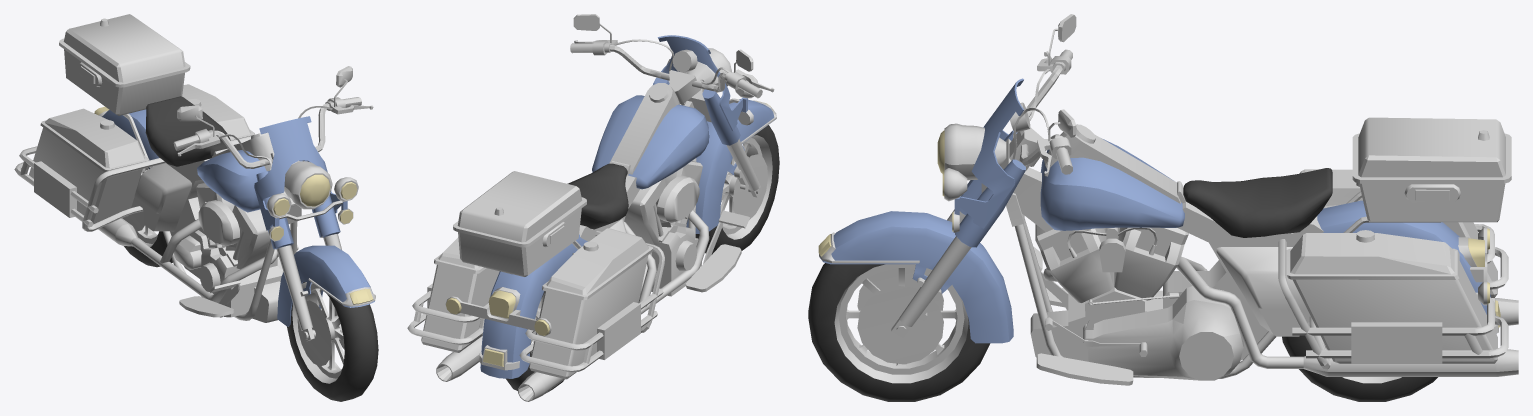
File: bike3.fbx
The picture shows the model from 3 angles, left to right: view 1: azimuth 30°, elevation 25°; view 2: azimuth 150°, elevation 25°; view 3: azimuth 270°, elevation 25°; orthographic projection. The views are drawn at different scales.
Parts seen in each view (by area): view 1: Bike3, Shape, FrontWheel, Wing, BackWheel; view 2: Bike3, Shape, FrontWheel, Wing, BackWheel; view 3: Bike3, FrontWheel, Wing, Shape, BackWheel.
Part boxes in pixels (bbox=[...]): Bike3: bbox=[14, 14, 306, 322]; Shape: bbox=[173, 66, 373, 249]; FrontWheel: bbox=[287, 282, 378, 401]; Wing: bbox=[276, 234, 375, 341]; BackWheel: bbox=[122, 167, 172, 267]; Bike3: bbox=[407, 83, 749, 401]; Shape: bbox=[570, 14, 774, 145]; FrontWheel: bbox=[695, 125, 779, 254]; Wing: bbox=[686, 99, 776, 233]; BackWheel: bbox=[506, 291, 563, 393]; Bike3: bbox=[1006, 117, 1518, 385]; FrontWheel: bbox=[808, 263, 990, 401]; Wing: bbox=[818, 209, 1013, 343]; Shape: bbox=[937, 14, 1076, 247]; BackWheel: bbox=[1282, 322, 1437, 401].
Size of what is drawn, in the model's own units: 0.9298 by 1.18 by 2.29.
